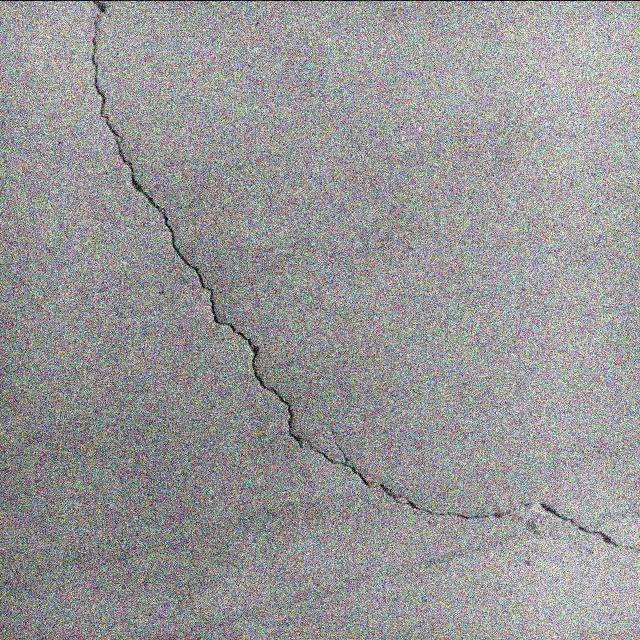SurfaceCrack: (16, 1, 639, 584)
